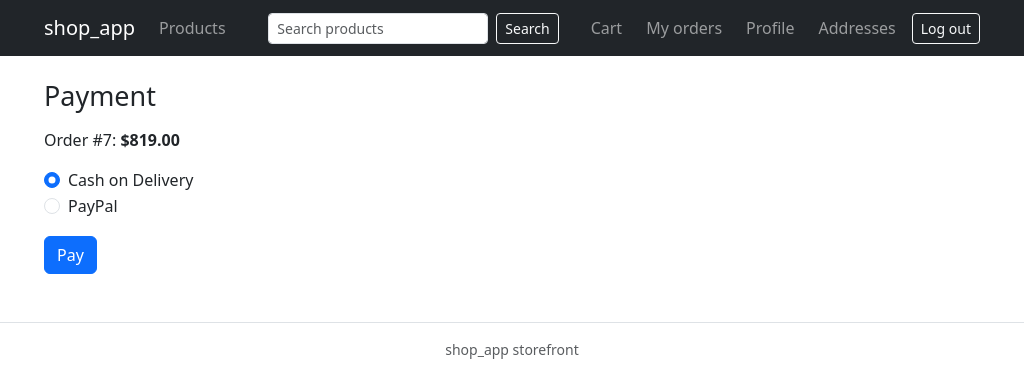
Scenario: Pay page › cash on delivery: "Order placed — pay on delivery"
Click the button "Pay".
click(70, 255)  # box [44,236,97,274]
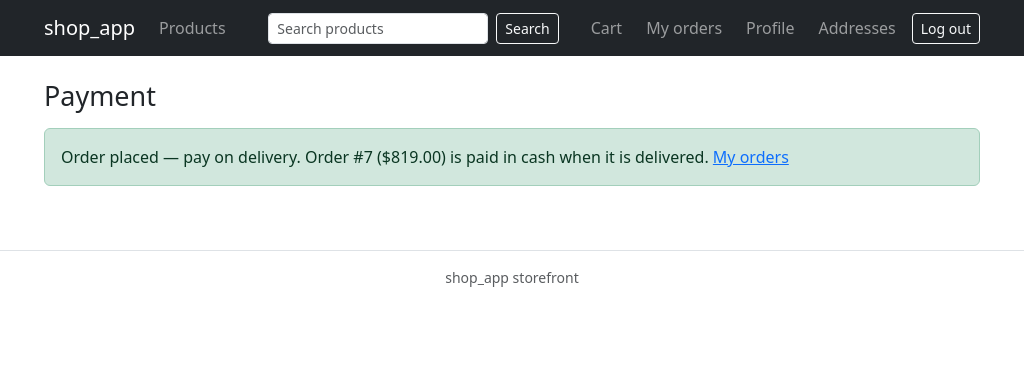
Check: the text "Order placed — pay on delivery" is shown, box [61,146,364,168]
